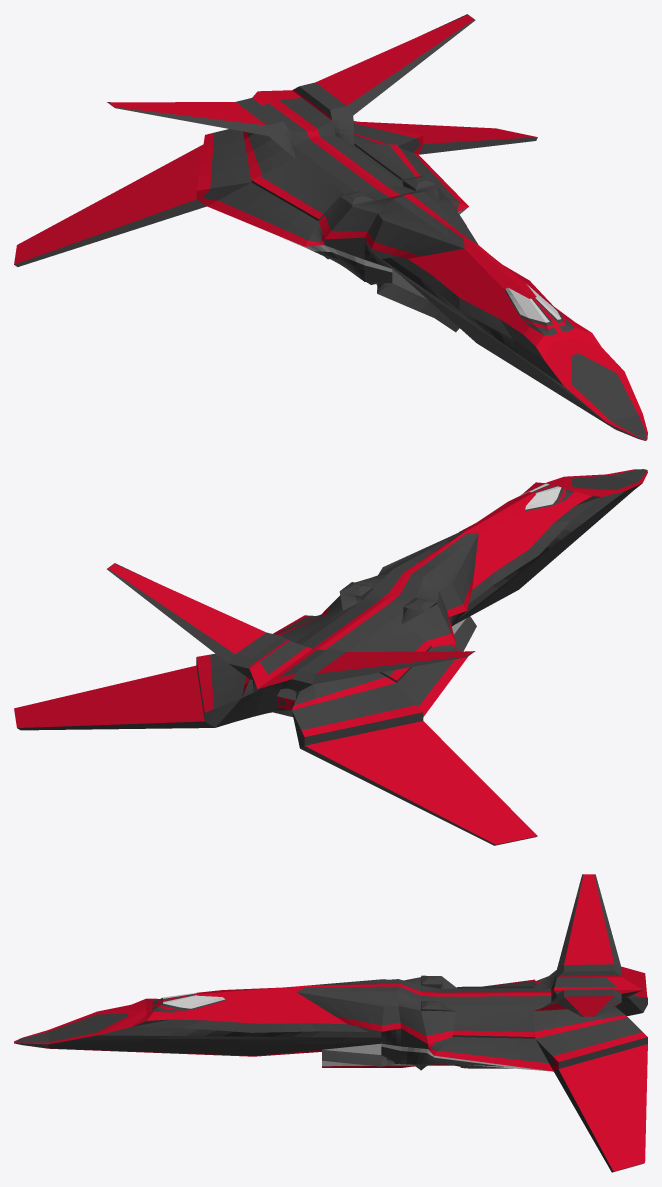
The model's file is cratos.fbx.
3 views of the same model, one above another, from view 1: azimuth 30°, elevation 25°; view 2: azimuth 150°, elevation 25°; view 3: azimuth 270°, elevation 25° (orthographic). The views are drawn at different scales.
Visible parts, largest first — view 1: Cube; view 2: Cube; view 3: Cube.
Boxes of the visible parts, x1,y1,x2,y2 form: Cube: (14, 14, 647, 440); Cube: (14, 469, 647, 845); Cube: (14, 874, 647, 1172).
Bounding box in the file's own units: 1237 × 347 × 1599.
